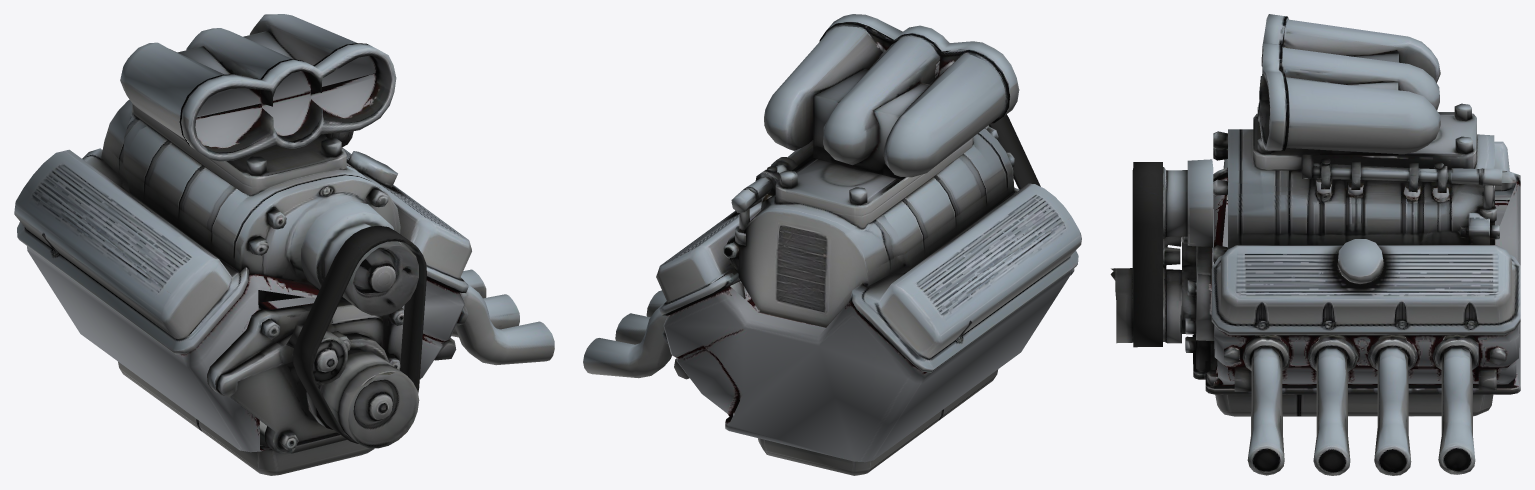
The model's file is donnerbuechse-big_engine.glb.
The picture shows the model from 3 angles, left to right: view 1: azimuth 30°, elevation 25°; view 2: azimuth 150°, elevation 25°; view 3: azimuth 270°, elevation 25°; orthographic projection. The views are drawn at different scales.
Parts seen in each view (by area): view 1: tripo_node_dbb7af69-4d88-4a22-b73a-385d226bbfa6; view 2: tripo_node_dbb7af69-4d88-4a22-b73a-385d226bbfa6; view 3: tripo_node_dbb7af69-4d88-4a22-b73a-385d226bbfa6.
Part boxes in pixels (<box>): tripo_node_dbb7af69-4d88-4a22-b73a-385d226bbfa6: <box>14,14,554,475</box>; tripo_node_dbb7af69-4d88-4a22-b73a-385d226bbfa6: <box>583,14,1081,475</box>; tripo_node_dbb7af69-4d88-4a22-b73a-385d226bbfa6: <box>1110,14,1520,475</box>.
Size of the model in its own units: 0.6044 by 0.55 by 0.5902.
Materials: 1 (1 with a texture image).
